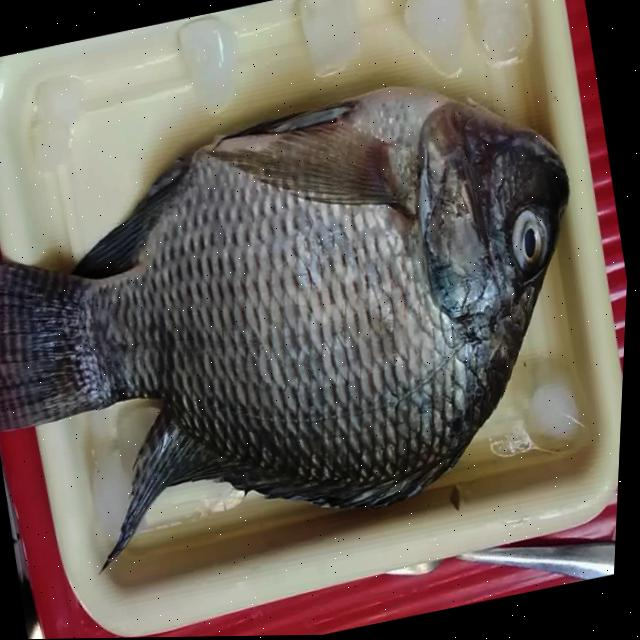Fresh: (165, 67, 542, 542), (497, 188, 566, 294)
